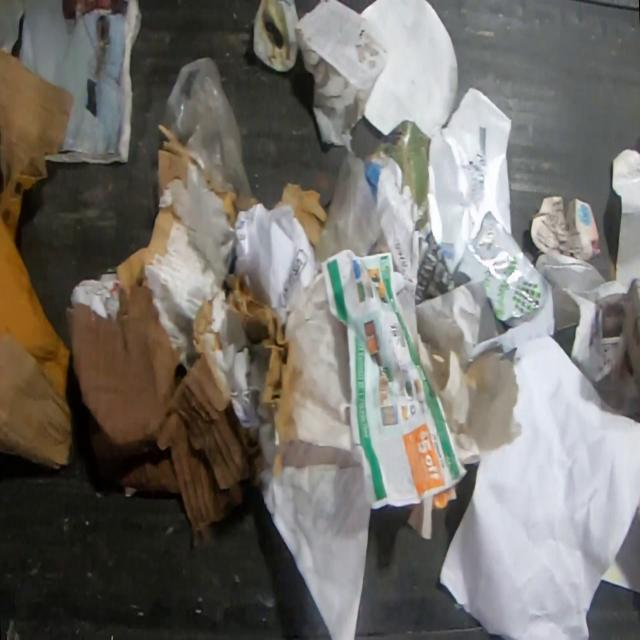cardboard: (63, 274, 272, 547), (0, 48, 75, 470), (116, 123, 240, 371), (190, 274, 297, 477), (272, 181, 327, 255)
soft_plastic: (426, 83, 513, 273), (164, 55, 258, 214), (456, 212, 552, 327), (316, 152, 383, 264)
